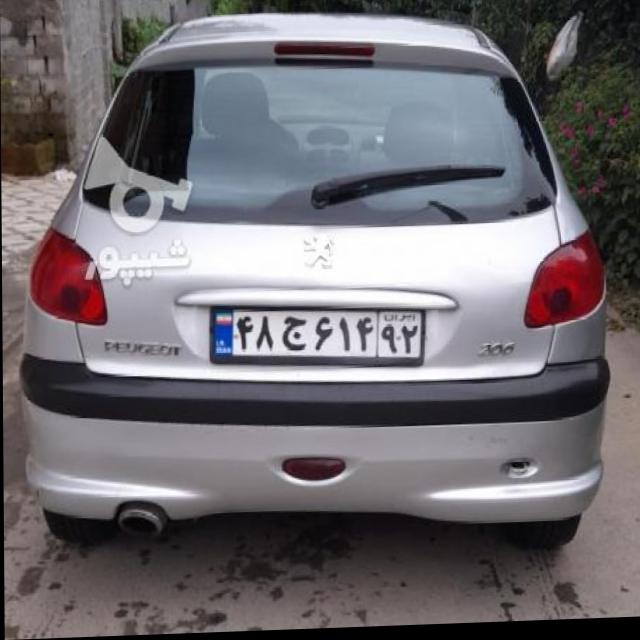licence: (210, 300, 421, 375)
